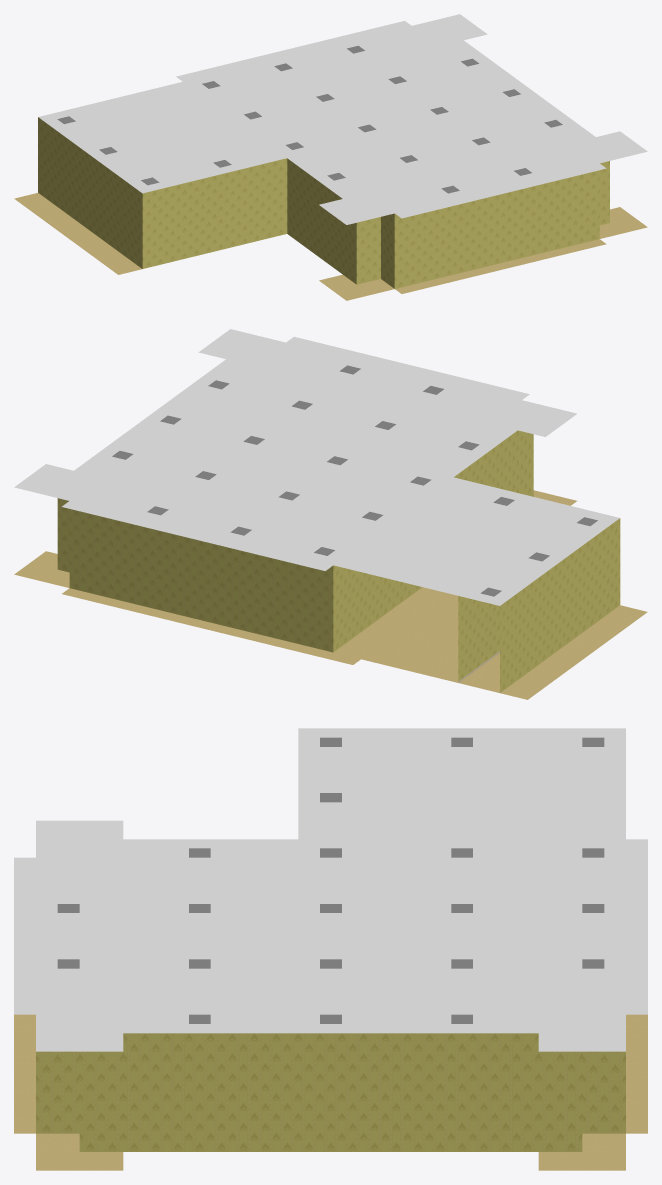
File: First Room.fbx
3 renders of one model, top to bottom at view 1: azimuth 30°, elevation 25°; view 2: azimuth 150°, elevation 25°; view 3: azimuth 270°, elevation 25°, orthographic. The views are drawn at different scales.
Visible parts, largest first — view 1: First Room Ceiling, First Room Walls, First Room Floor; view 2: First Room Ceiling, First Room Walls, First Room Floor; view 3: First Room Ceiling, First Room Walls, First Room Floor.
Part boxes in pixels (bbox=[...]): First Room Ceiling: bbox=[38, 14, 647, 224]; First Room Walls: bbox=[38, 117, 609, 288]; First Room Floor: bbox=[14, 193, 647, 300]; First Room Ceiling: bbox=[14, 329, 619, 605]; First Room Walls: bbox=[57, 430, 620, 692]; First Room Floor: bbox=[14, 490, 647, 699]; First Room Ceiling: bbox=[14, 728, 647, 1051]; First Room Walls: bbox=[36, 1033, 625, 1151]; First Room Floor: bbox=[14, 1014, 647, 1170].
Bounding box in the file's own units: 1850 × 300 × 1450.
7 materials, 2 textured.
